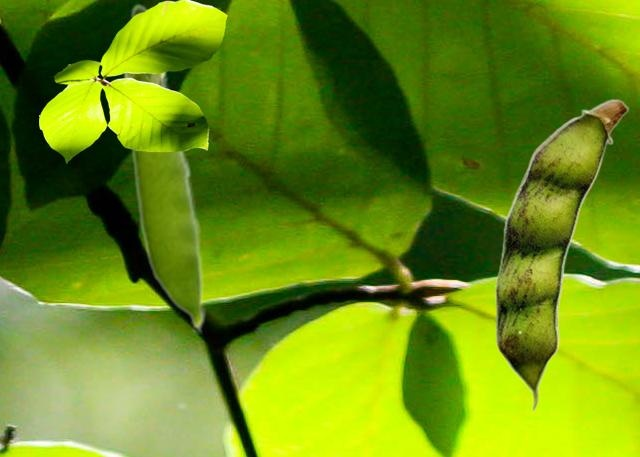pea: (495, 98, 628, 411), (122, 2, 206, 333)
